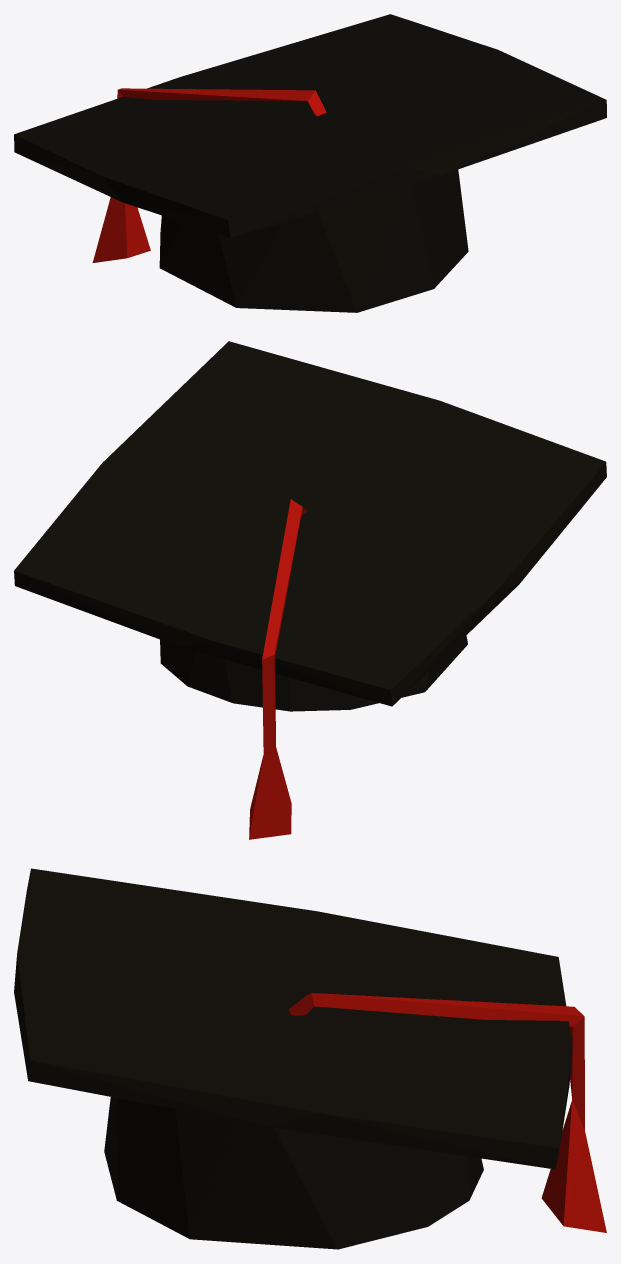
Rendered from hat_bachelor.glb.
3 views of the same model, one above another, from view 1: azimuth 30°, elevation 25°; view 2: azimuth 150°, elevation 25°; view 3: azimuth 270°, elevation 25° (orthographic). The views are drawn at different scales.
Visible parts, largest first — view 1: Lp_BachelorHat01; view 2: Lp_BachelorHat01; view 3: Lp_BachelorHat01.
Part boxes in pixels (left/top/right/bottom): Lp_BachelorHat01: left=14, top=14, right=606, bottom=312; Lp_BachelorHat01: left=14, top=341, right=606, bottom=839; Lp_BachelorHat01: left=14, top=868, right=606, bottom=1249.
Size of the model in its own units: 0.3858 by 0.2465 by 0.407.
Materials: 1 (1 with a texture image).
